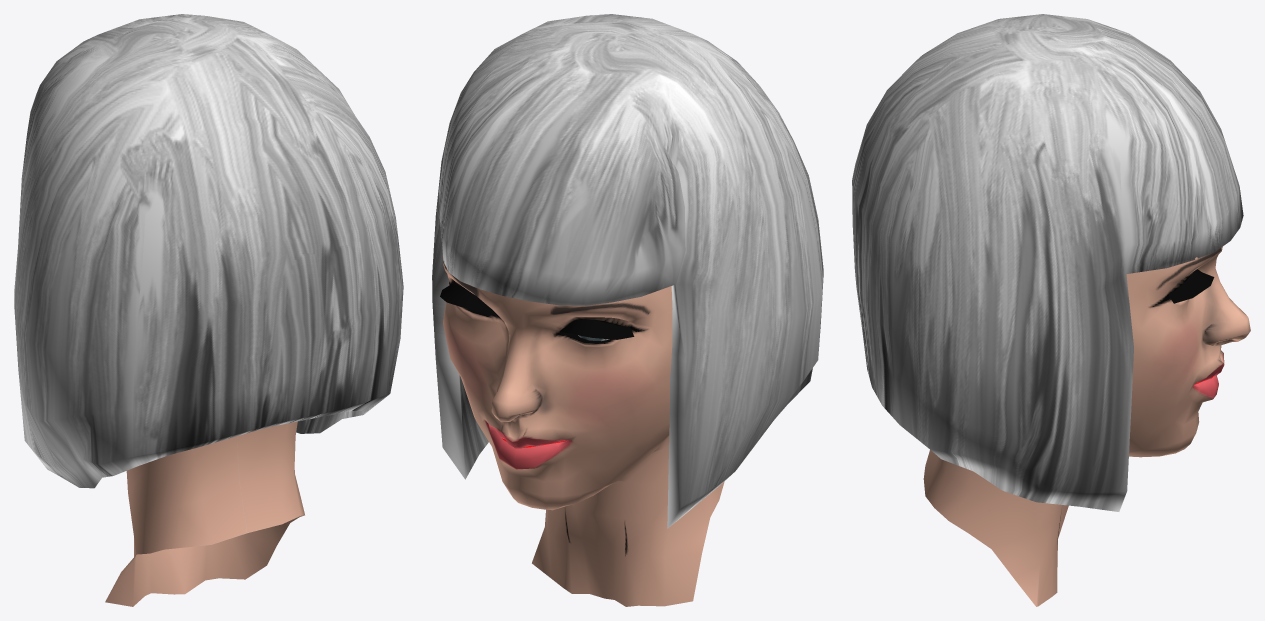
Rendered from Via Face.glb.
3 views of the same model, side by side, from view 1: azimuth 30°, elevation 25°; view 2: azimuth 150°, elevation 25°; view 3: azimuth 270°, elevation 25° (orthographic). The views are drawn at different scales.
Parts seen in each view (by area): view 1: head; view 2: head; view 3: head.
Part boxes in pixels (<box>): head: <box>14,14,403,606</box>; head: <box>432,14,823,606</box>; head: <box>852,14,1250,606</box>.
Bounding box in the file's own units: 0.2137 × 0.3244 × 0.2136.
Materials: 1 (1 with a texture image).
